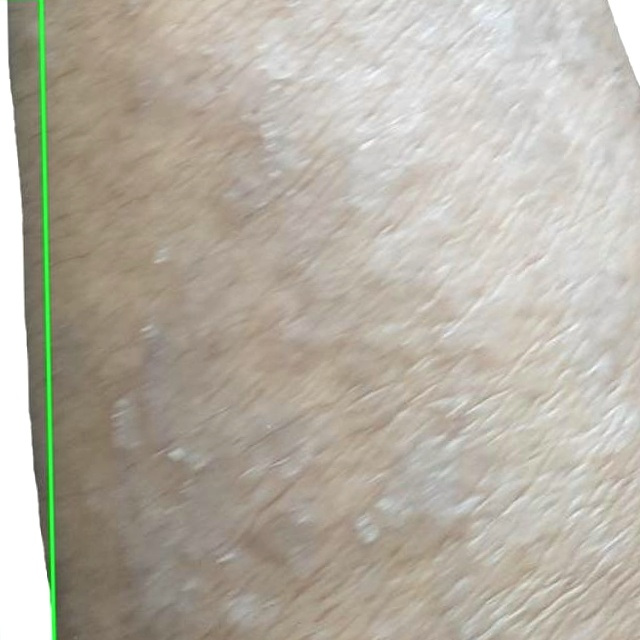Tinea Corporis: (0, 0, 54, 639)
